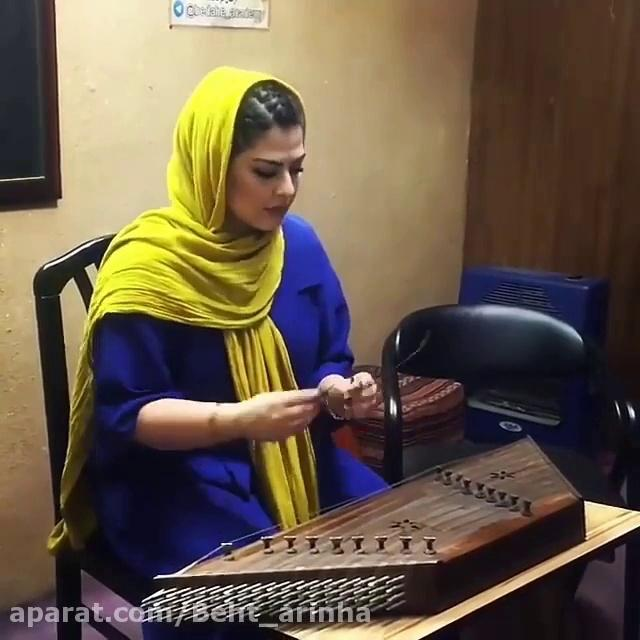Santur: (95, 415, 615, 625)
